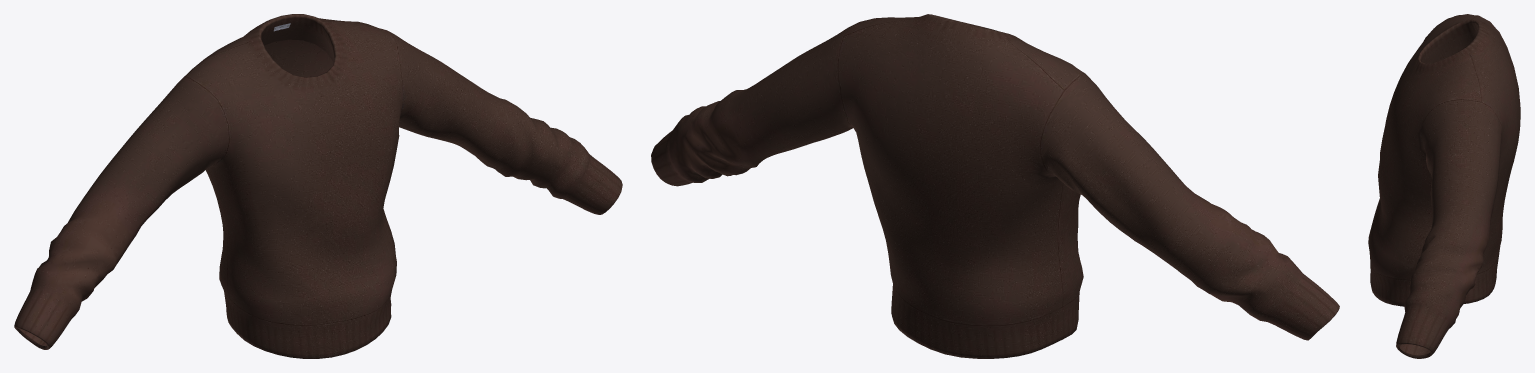
File: sweater.glb
The picture shows the model from 3 angles, left to right: view 1: azimuth 30°, elevation 25°; view 2: azimuth 150°, elevation 25°; view 3: azimuth 270°, elevation 25°; orthographic projection. The views are drawn at different scales.
Visible parts, largest first — view 1: defaultMaterial; view 2: defaultMaterial; view 3: defaultMaterial.
Boxes of the visible parts, box(x1,y1,x2,y2) form: defaultMaterial: box(14, 14, 622, 358); defaultMaterial: box(651, 14, 1339, 358); defaultMaterial: box(1368, 14, 1520, 358).
Bounding box in the file's own units: 5.53 × 2.58 × 1.37.
Materials: 1 (1 with a texture image).
